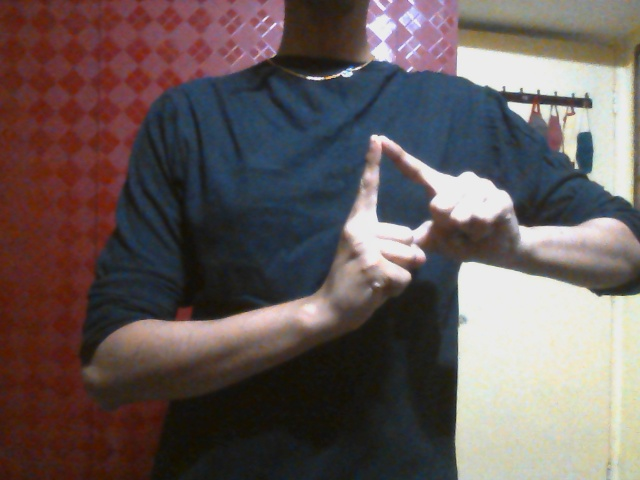D: (329, 134, 521, 318)
